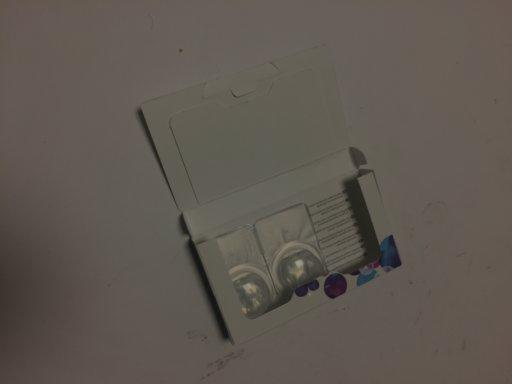trash: (136, 42, 403, 378)
